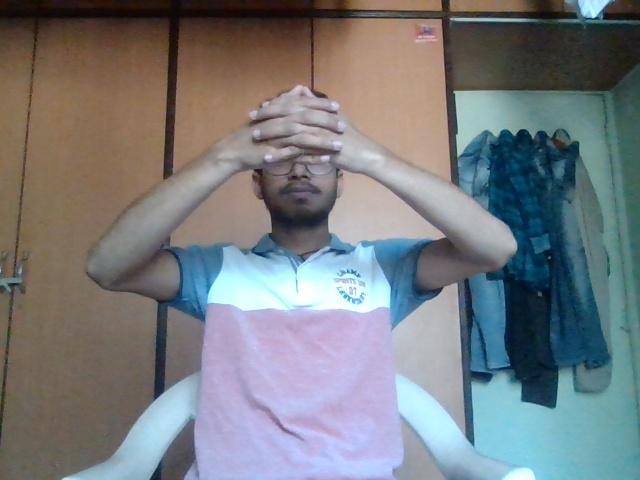good: (233, 81, 385, 208)
